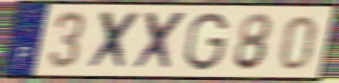0: (278, 13, 321, 71)
3: (47, 9, 89, 73)
8: (231, 11, 274, 73)
G: (182, 11, 230, 73)
X: (83, 9, 144, 73), (131, 10, 190, 73)
